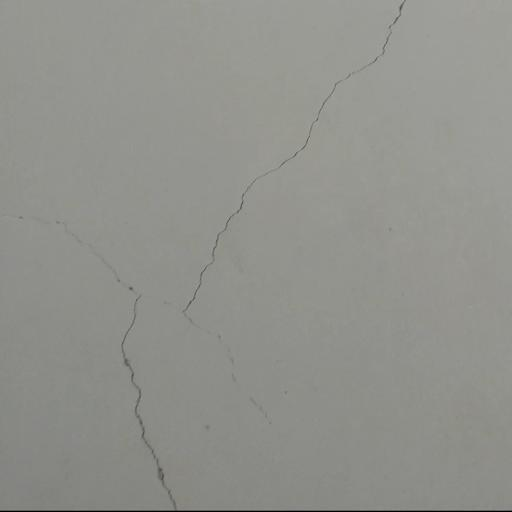minor_crack: (180, 0, 414, 431), (1, 200, 180, 512)
